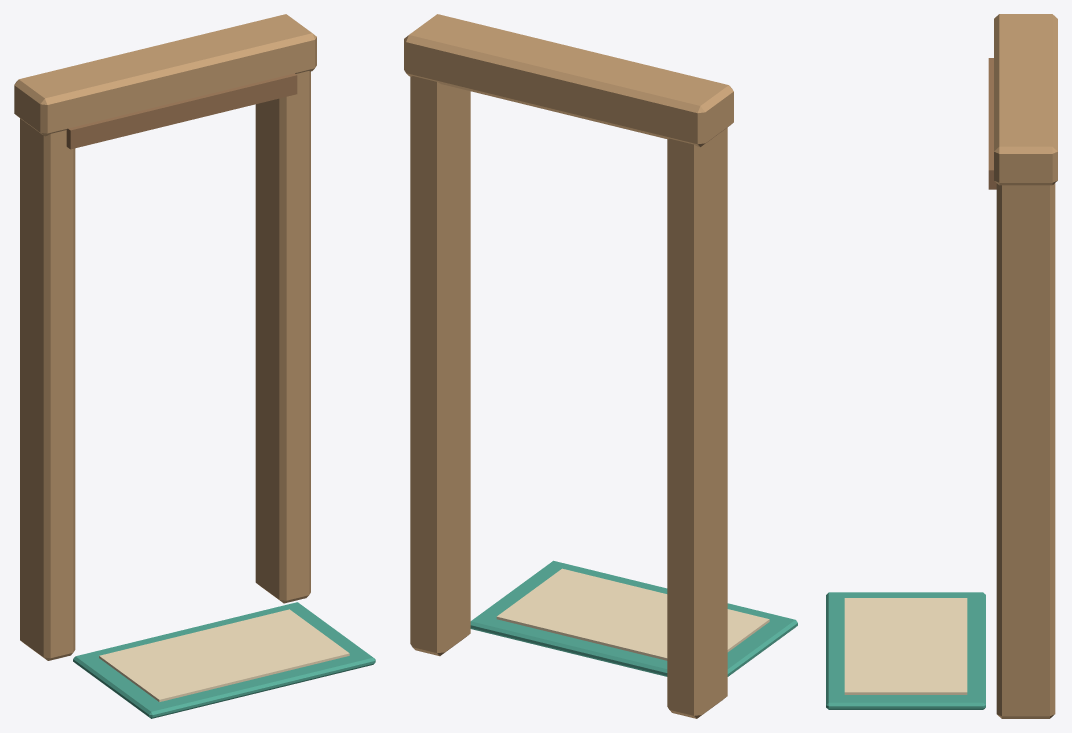
Rendered from prop_doorframe_01.glb.
3 views of the same model, side by side, from view 1: azimuth 30°, elevation 25°; view 2: azimuth 150°, elevation 25°; view 3: azimuth 270°, elevation 25° (orthographic). The views are drawn at different scales.
Parts seen in each view (by area): view 1: prop_doorframe_01_body; view 2: prop_doorframe_01_body; view 3: prop_doorframe_01_body.
Boxes of the visible parts, bbox=[...] form: prop_doorframe_01_body: bbox=[14, 14, 375, 718]; prop_doorframe_01_body: bbox=[404, 14, 797, 718]; prop_doorframe_01_body: bbox=[826, 14, 1057, 718].
Size of the model in its own units: 1.22 by 2.38 by 0.87.
